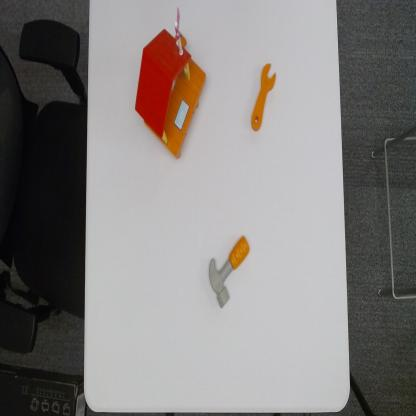Hammer: (134, 4, 208, 161), (208, 233, 250, 309)
Screwdriver: (250, 61, 278, 134)
